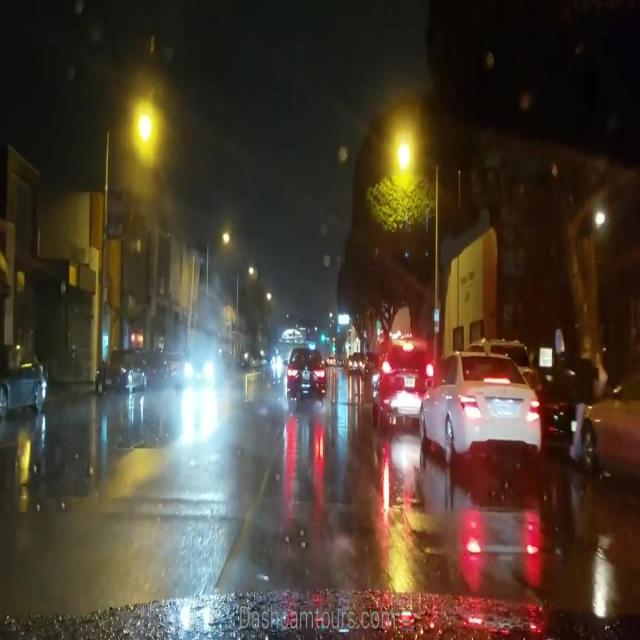Car: (418, 343, 537, 493), (574, 360, 639, 480), (367, 338, 420, 432), (3, 340, 43, 413), (286, 343, 323, 406), (96, 349, 145, 395)
